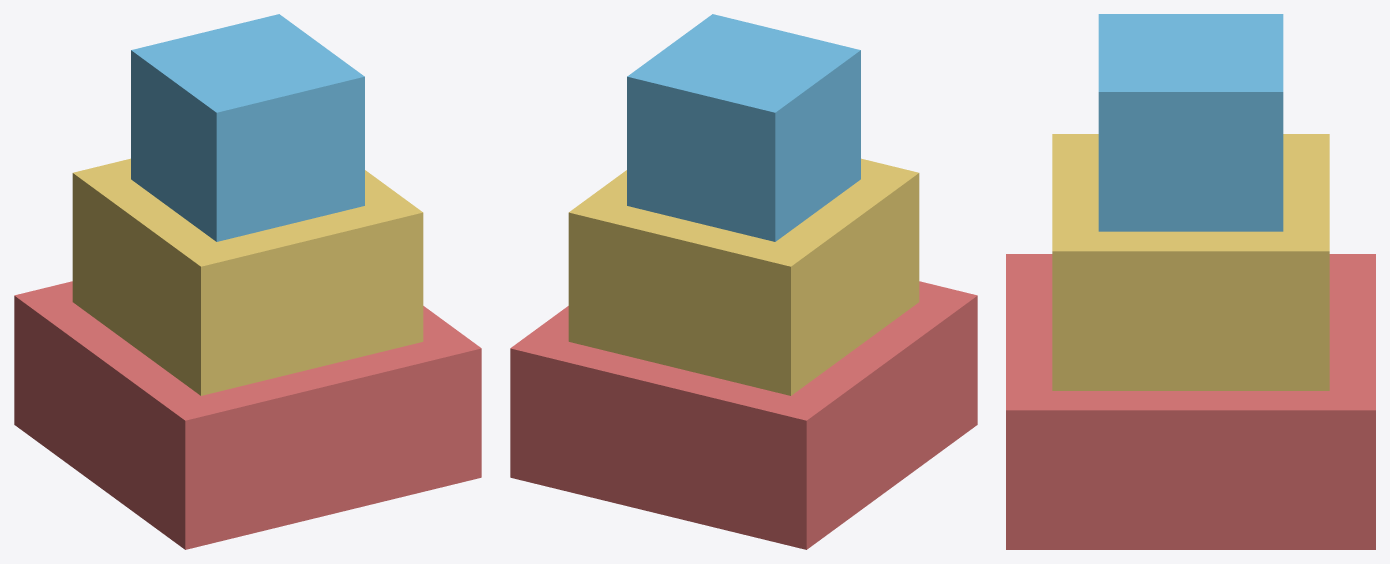
The model's file is tower.gltf.
3 views of the same model, side by side, from view 1: azimuth 30°, elevation 25°; view 2: azimuth 150°, elevation 25°; view 3: azimuth 270°, elevation 25° (orthographic). The views are drawn at different scales.
Parts seen in each view (by area): view 1: tower; view 2: tower; view 3: tower.
Boxes of the visible parts, left/top/right/bottom form: tower: left=14, top=14, right=481, bottom=549; tower: left=510, top=14, right=977, bottom=549; tower: left=1006, top=14, right=1375, bottom=549.
Bounding box in the file's own units: 1.2 × 1.5 × 1.2.
